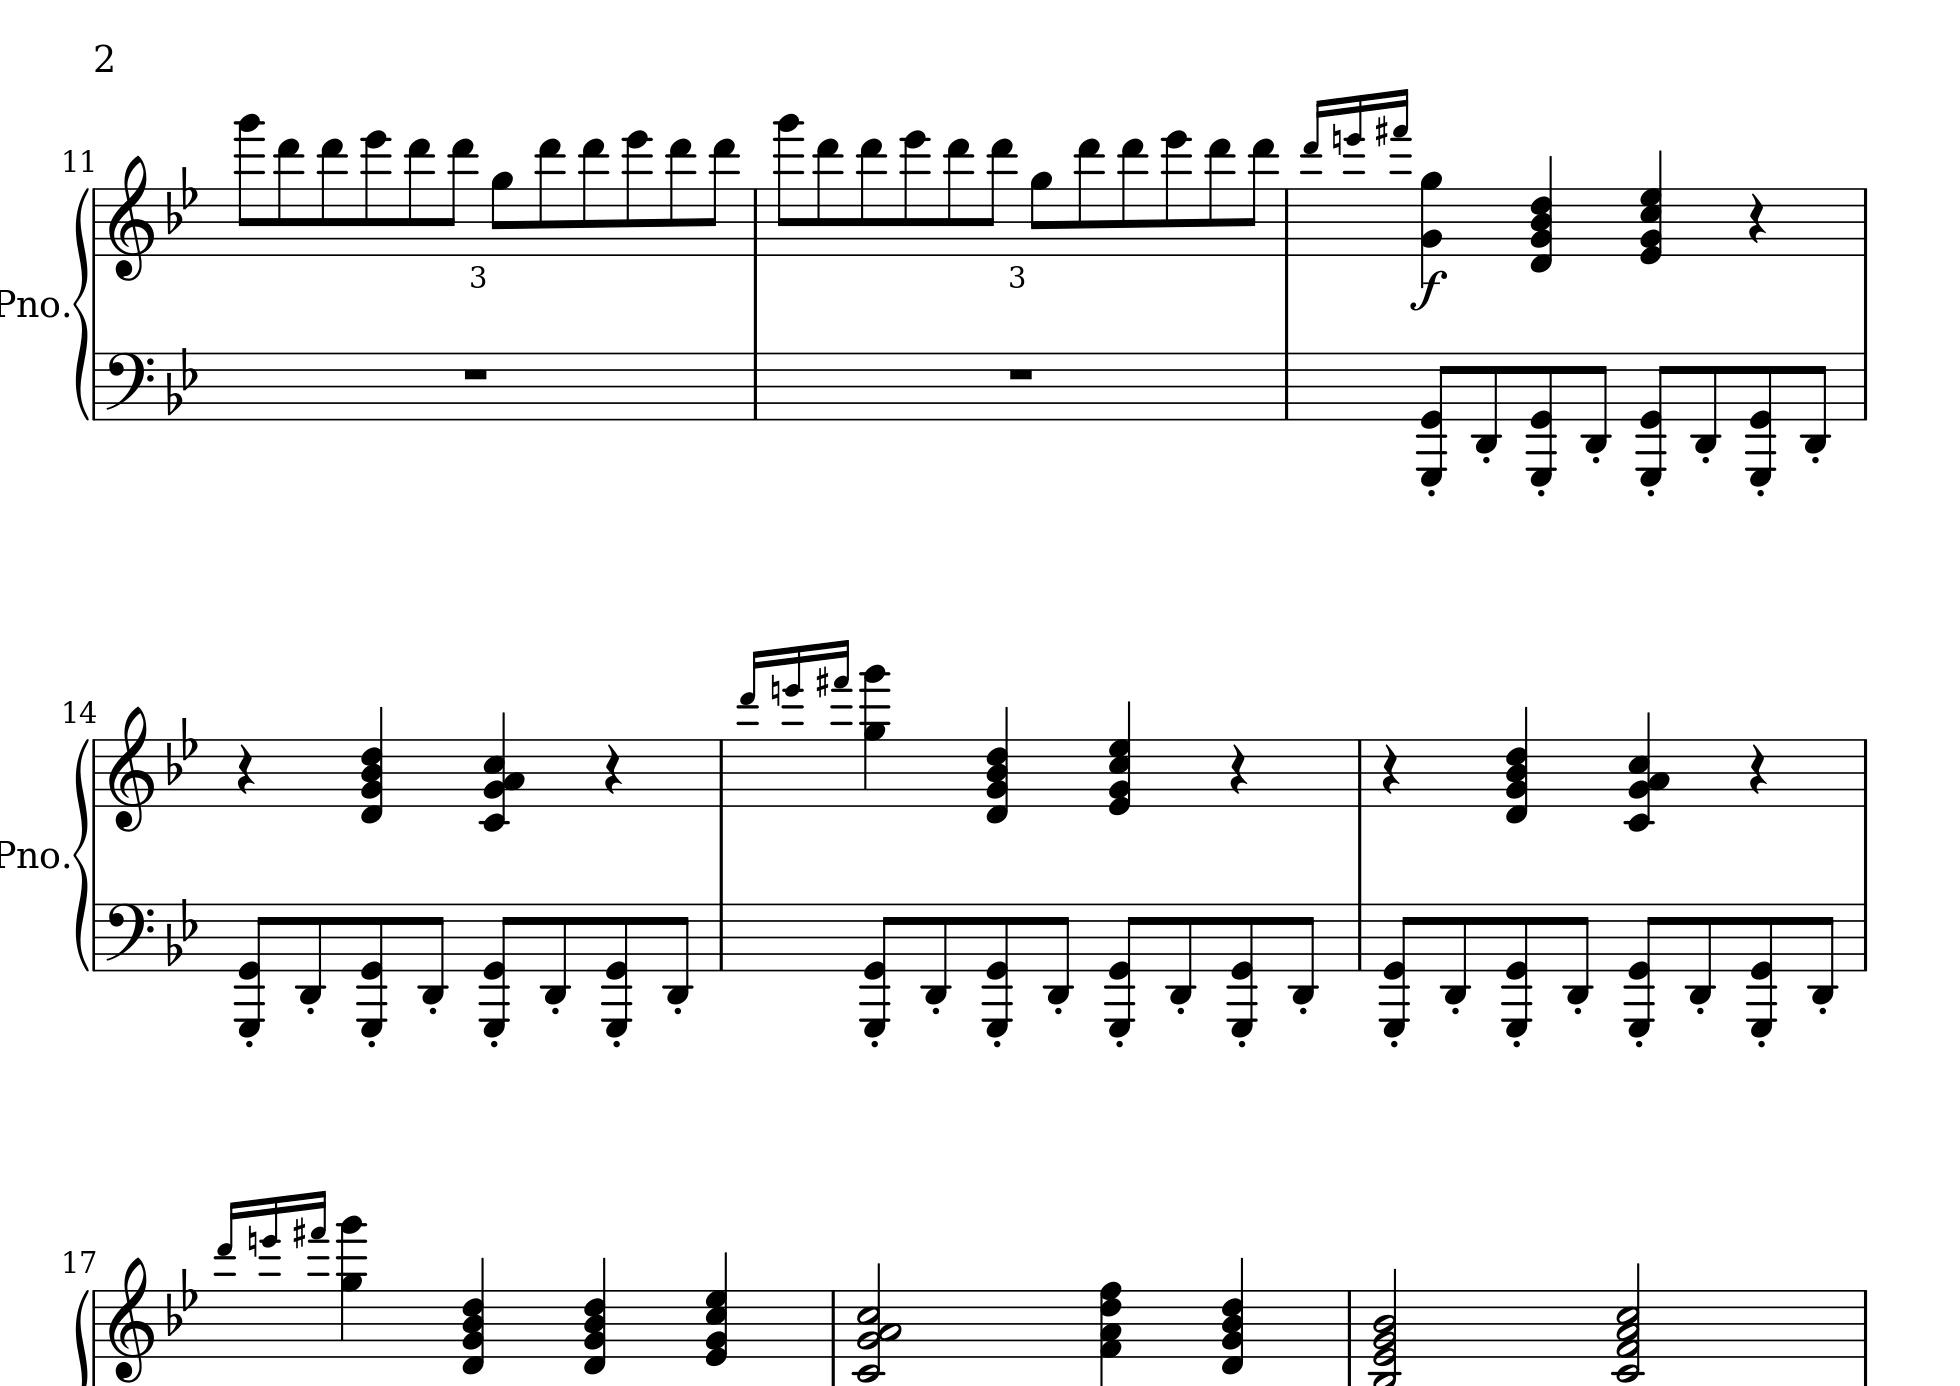1: (79, 147, 96, 175), (61, 1246, 76, 1276), (61, 147, 76, 175), (61, 697, 76, 726)
2: (91, 40, 115, 73)
2_4th: (853, 1261, 901, 1381), (1614, 1261, 1645, 1386), (1371, 1267, 1404, 1386)
3: (468, 262, 487, 289), (1008, 262, 1027, 289)
4: (78, 697, 100, 726)
4_2_9: (1419, 169, 1443, 289)
4_4th: (1624, 709, 1669, 835), (480, 709, 525, 832), (358, 705, 385, 826), (1107, 699, 1134, 817), (1221, 1255, 1246, 1378), (460, 1257, 486, 1378), (582, 1258, 607, 1380), (1639, 145, 1665, 265), (1530, 154, 1555, 274), (985, 705, 1011, 825), (703, 1249, 729, 1368), (1506, 705, 1530, 823), (1098, 1279, 1123, 1384)
7: (79, 1246, 97, 1276)
8_-3: (1473, 351, 1503, 456), (1692, 351, 1722, 456), (541, 901, 571, 1006), (1044, 901, 1074, 1006), (1167, 901, 1197, 1006), (1290, 901, 1320, 1006), (418, 901, 448, 1005), (1564, 901, 1594, 1005), (1582, 349, 1611, 456), (297, 901, 325, 1006), (922, 901, 951, 1006), (1443, 901, 1471, 1006), (1687, 901, 1716, 1006), (1809, 901, 1836, 1006), (664, 901, 691, 1005), (1803, 351, 1828, 456)
8_-7_0: (231, 901, 273, 1038), (1635, 349, 1674, 487), (352, 900, 391, 1038), (859, 903, 898, 1036), (1744, 349, 1782, 486), (1378, 901, 1416, 1036), (1417, 349, 1453, 489), (1623, 903, 1660, 1036), (1225, 901, 1261, 1038), (1525, 351, 1560, 490), (1104, 901, 1138, 1038), (478, 901, 511, 1039), (1503, 901, 1536, 1038), (981, 901, 1014, 1038), (601, 901, 634, 1036), (1747, 901, 1779, 1039)
8_13: (705, 136, 739, 256), (984, 136, 1017, 256), (1245, 136, 1278, 256), (444, 136, 477, 255), (534, 136, 564, 258), (316, 136, 346, 256), (403, 136, 433, 256), (943, 136, 973, 256), (1074, 136, 1104, 256), (579, 136, 607, 258), (666, 136, 694, 258), (813, 136, 841, 258), (273, 136, 301, 256), (856, 136, 885, 256), (1119, 136, 1146, 258), (1206, 136, 1233, 258)
8_14: (360, 130, 391, 256), (622, 130, 652, 256), (900, 130, 930, 256), (1161, 130, 1191, 256)
8_16: (234, 112, 265, 255), (772, 114, 804, 256)
8_9: (489, 169, 514, 256), (1029, 169, 1054, 256)
B_F: (165, 163, 199, 235), (165, 715, 199, 786), (165, 1266, 198, 1336), (166, 346, 198, 415), (166, 897, 198, 966)
Brace: (70, 735, 91, 970), (72, 183, 91, 421)
Fclef: (103, 900, 156, 973), (103, 349, 156, 417)
Gclef: (106, 153, 157, 283), (106, 703, 157, 832), (106, 1254, 154, 1383)
Natural: (1330, 120, 1344, 154), (769, 672, 781, 706), (246, 1222, 258, 1257)
Pno: (1, 837, 60, 871), (1, 286, 60, 318)
Rests1: (1005, 363, 1038, 384), (460, 363, 492, 384)
Rests4: (601, 742, 625, 798), (1228, 742, 1251, 796), (1380, 742, 1402, 796), (235, 742, 256, 796), (1749, 742, 1770, 796), (1747, 192, 1768, 244)
Sharp: (291, 1213, 307, 1249), (1374, 112, 1389, 148), (814, 663, 829, 699)
Single_barline: (1854, 738, 1875, 805), (1855, 187, 1875, 255), (712, 901, 730, 970), (1278, 352, 1296, 418), (711, 739, 729, 805), (1278, 189, 1296, 253), (747, 187, 763, 256), (1857, 1288, 1873, 1357), (1857, 352, 1873, 420), (1351, 738, 1368, 805), (1351, 903, 1368, 970), (825, 1290, 841, 1357), (747, 352, 763, 418), (1342, 1291, 1359, 1357), (88, 738, 103, 807), (1857, 901, 1872, 970), (88, 903, 103, 970), (88, 352, 103, 418), (88, 187, 102, 255), (88, 1290, 100, 1356)
f: (1408, 268, 1450, 310)
